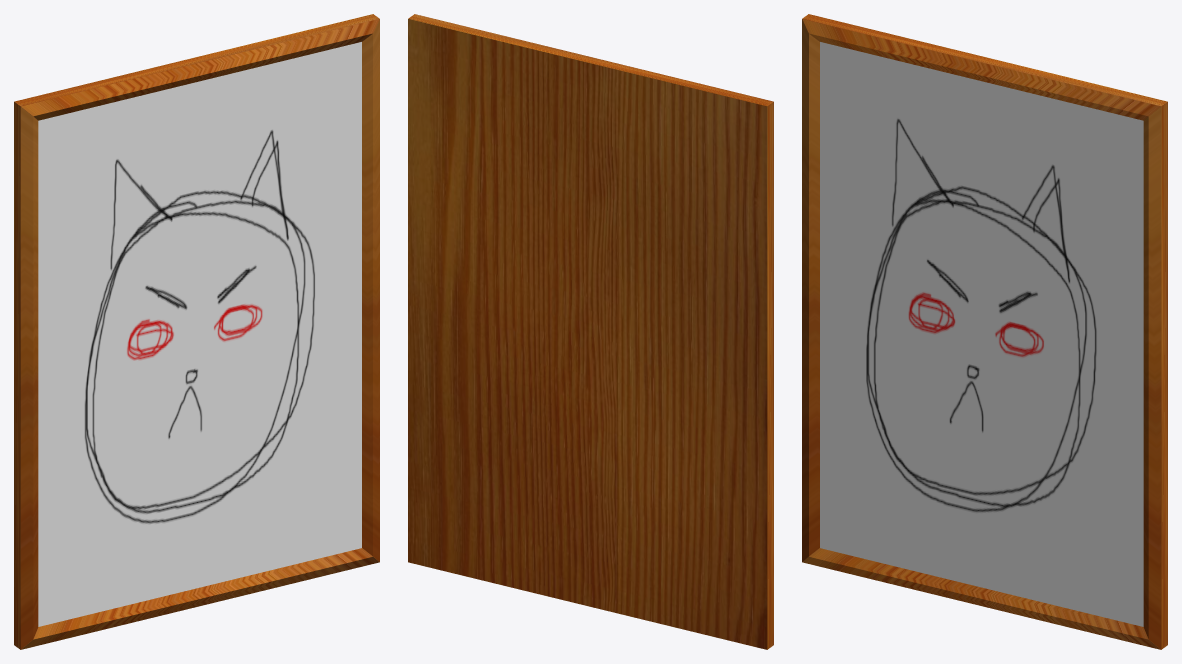
The model's file is picture_frame_01.fbx.
3 renders of one model, left to right at view 1: azimuth 30°, elevation 25°; view 2: azimuth 150°, elevation 25°; view 3: azimuth 330°, elevation 25°, orthographic.
Visible parts, largest first — view 1: frame_001; view 2: frame_001; view 3: frame_001.
Part boxes in pixels (bbox=[...]): frame_001: bbox=[14, 14, 379, 649]; frame_001: bbox=[408, 14, 773, 649]; frame_001: bbox=[802, 14, 1167, 649].
Size of the model in its own units: 70 by 101 by 3.22.
